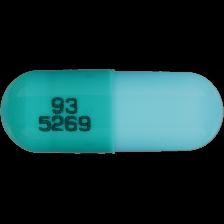0093-5269: (0, 0, 224, 224)
